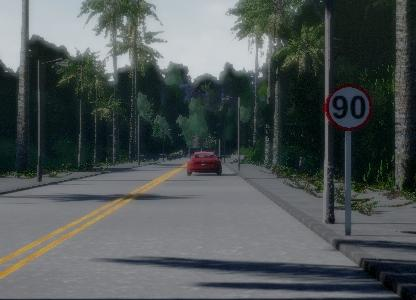Speed_90: (323, 82, 375, 135)
